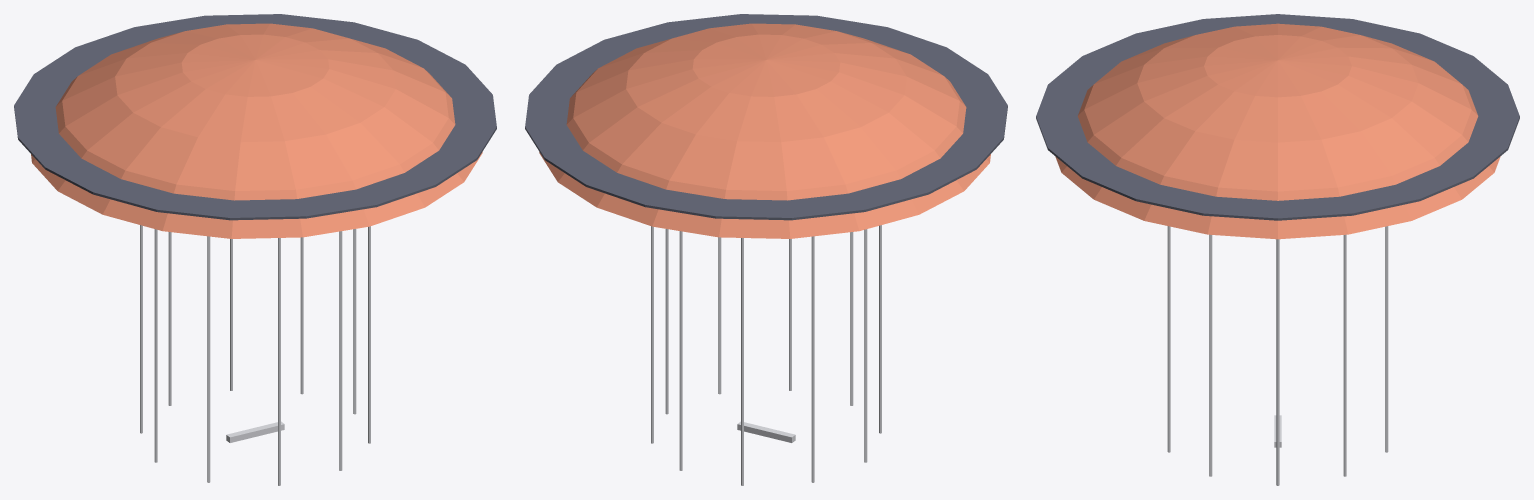
File: chute.glb
3 renders of one model, left to right at view 1: azimuth 30°, elevation 25°; view 2: azimuth 150°, elevation 25°; view 3: azimuth 270°, elevation 25°, orthographic.
Visible parts, largest first — view 1: Chute; view 2: Chute; view 3: Chute.
Part boxes in pixels (x1,y1,x2,y2): Chute: (14, 14, 496, 485); Chute: (525, 14, 1007, 485); Chute: (1036, 14, 1519, 485).
Bounding box in the file's own units: 3.84 × 3.3 × 3.84.
